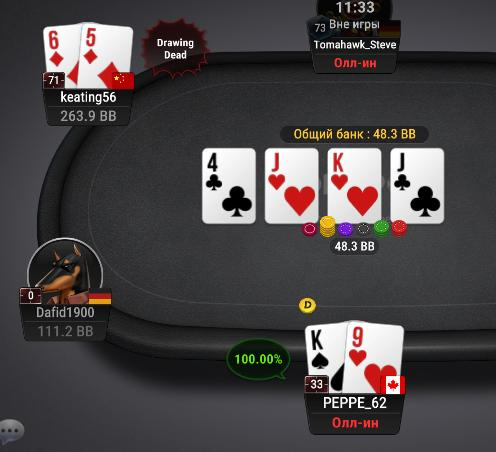4c: (202, 148, 256, 222)
5d: (81, 23, 132, 94)
6d: (43, 24, 82, 88)
9h: (346, 321, 404, 395)
Jc: (391, 150, 444, 221)
Jh: (265, 148, 318, 224)
Kh: (328, 149, 381, 223)
Ks: (306, 325, 346, 395)
